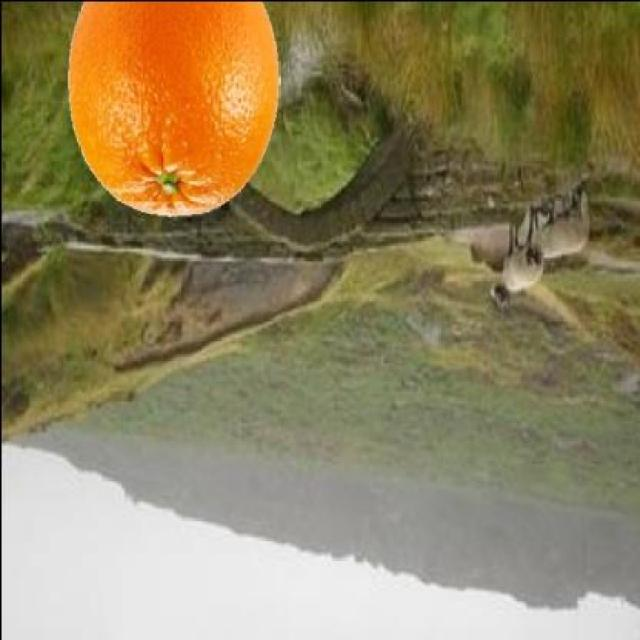Orange: (64, 0, 281, 218)
